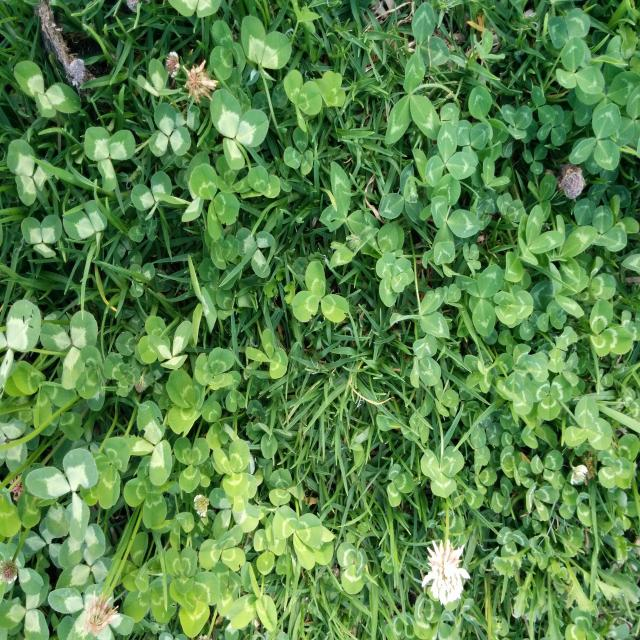Four Leaf Clover: (376, 252, 414, 307)
